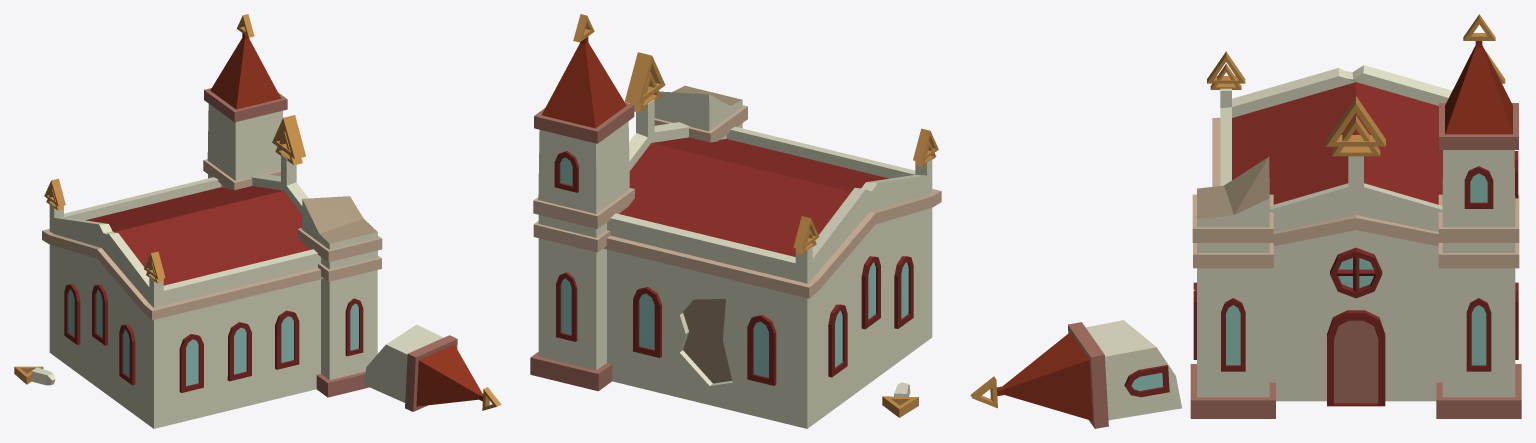
The model's file is IgrejaQuebrada.fbx.
3 renders of one model, left to right at view 1: azimuth 30°, elevation 25°; view 2: azimuth 150°, elevation 25°; view 3: azimuth 270°, elevation 25°, orthographic. The views are drawn at different scales.
Parts seen in each view (by area): view 1: I_Quebrada; view 2: I_Quebrada; view 3: I_Quebrada.
Part boxes in pixels (x1=…): I_Quebrada: x1=14, y1=14, x2=501, y2=428; I_Quebrada: x1=530, y1=14, x2=941, y2=428; I_Quebrada: x1=970, y1=14, x2=1521, y2=428.
Size of the model in its own units: 1894 by 1718 by 2218.
